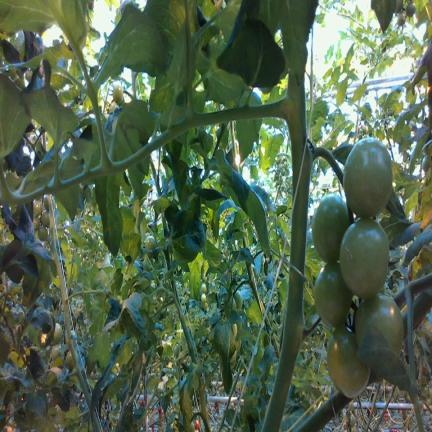6kp_peduncle: (288, 118, 344, 201), (235, 266, 257, 294), (191, 400, 210, 430)
6kp_petiole: (249, 71, 310, 166), (60, 282, 82, 320), (198, 367, 217, 400), (152, 160, 160, 193)
MainStem: (261, 70, 310, 432), (47, 195, 91, 413), (175, 283, 198, 365)
tomato: (339, 218, 389, 298), (343, 138, 392, 217), (327, 326, 369, 398), (355, 294, 403, 354), (312, 194, 349, 262), (314, 263, 352, 326), (113, 85, 123, 104), (144, 235, 156, 250), (51, 344, 61, 361), (234, 290, 243, 308), (54, 323, 62, 343), (66, 350, 74, 370), (405, 2, 415, 17), (38, 226, 48, 241), (397, 11, 406, 26), (33, 200, 42, 215), (41, 211, 50, 226), (225, 298, 236, 310), (422, 155, 429, 173), (33, 217, 40, 230), (25, 69, 32, 82), (109, 101, 117, 111), (230, 350, 236, 362), (350, 414, 356, 426), (232, 323, 237, 337), (235, 339, 241, 350), (230, 359, 236, 370), (44, 197, 49, 210), (201, 283, 207, 293), (201, 293, 206, 303), (348, 400, 353, 410), (204, 302, 208, 309)
